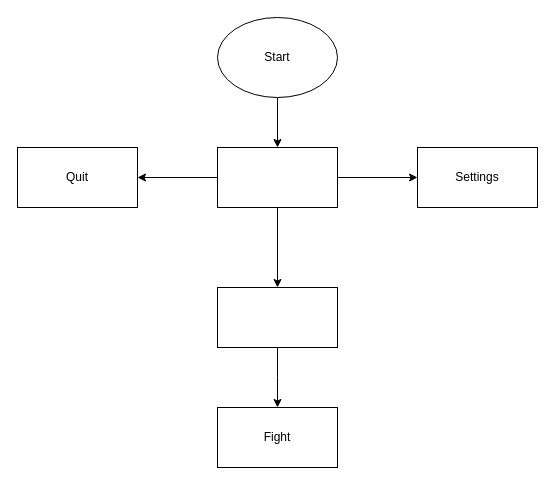
This 555x485 diagram has some shape labels left out. The box of each missing label's shape, as (x1, y1, x2, y2) in pixels:
Game Menu: (216, 286, 338, 348)
Play: (216, 146, 338, 208)
